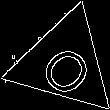O_NE: (31, 30, 97, 96)
